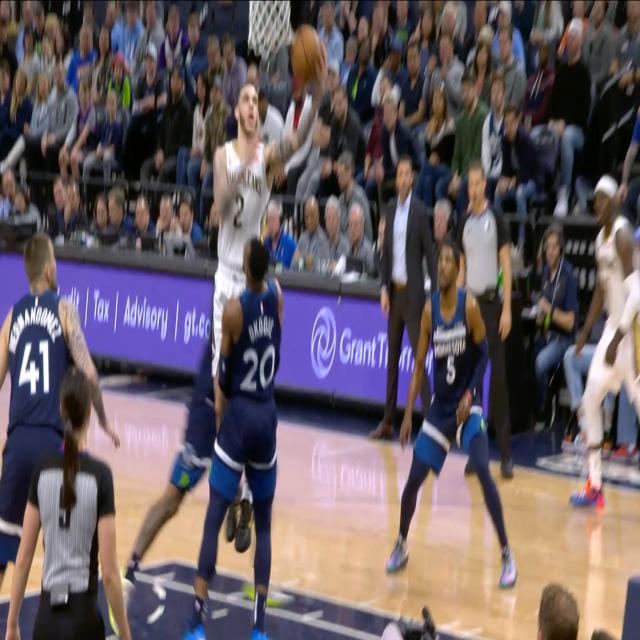Foul: (213, 134, 281, 465)
